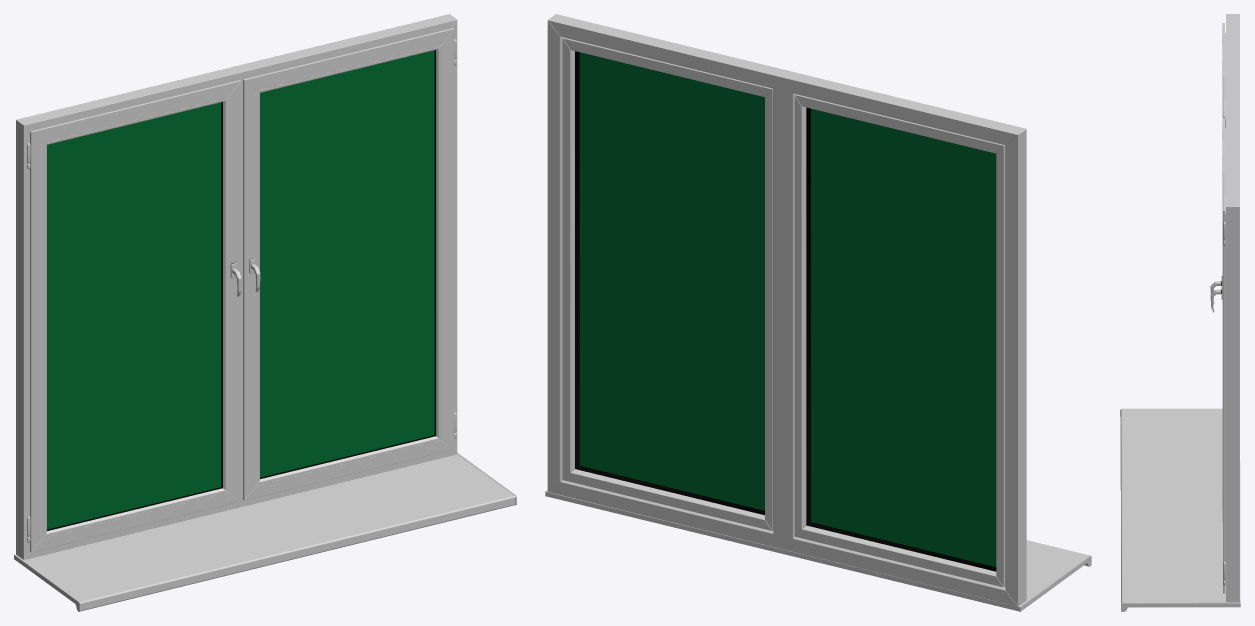
Rendered from wm_wind_2.FBX.
3 views of the same model, side by side, from view 1: azimuth 30°, elevation 25°; view 2: azimuth 150°, elevation 25°; view 3: azimuth 270°, elevation 25° (orthographic). The views are drawn at different scales.
Parts seen in each view (by area): view 1: окно 003; view 2: окно 003; view 3: окно 003.
Boxes of the visible parts, left/top/right/bottom form: окно 003: left=14, top=14, right=516, bottom=611; окно 003: left=545, top=14, right=1091, bottom=611; окно 003: left=1120, top=14, right=1240, bottom=611.
Size of the model in its own units: 1.91 by 1.85 by 0.4973.
